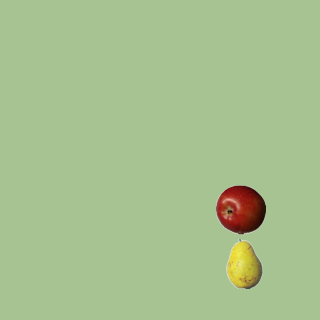Apple Braeburn: (215, 184, 265, 234)
Pear Monster: (219, 238, 269, 288)
